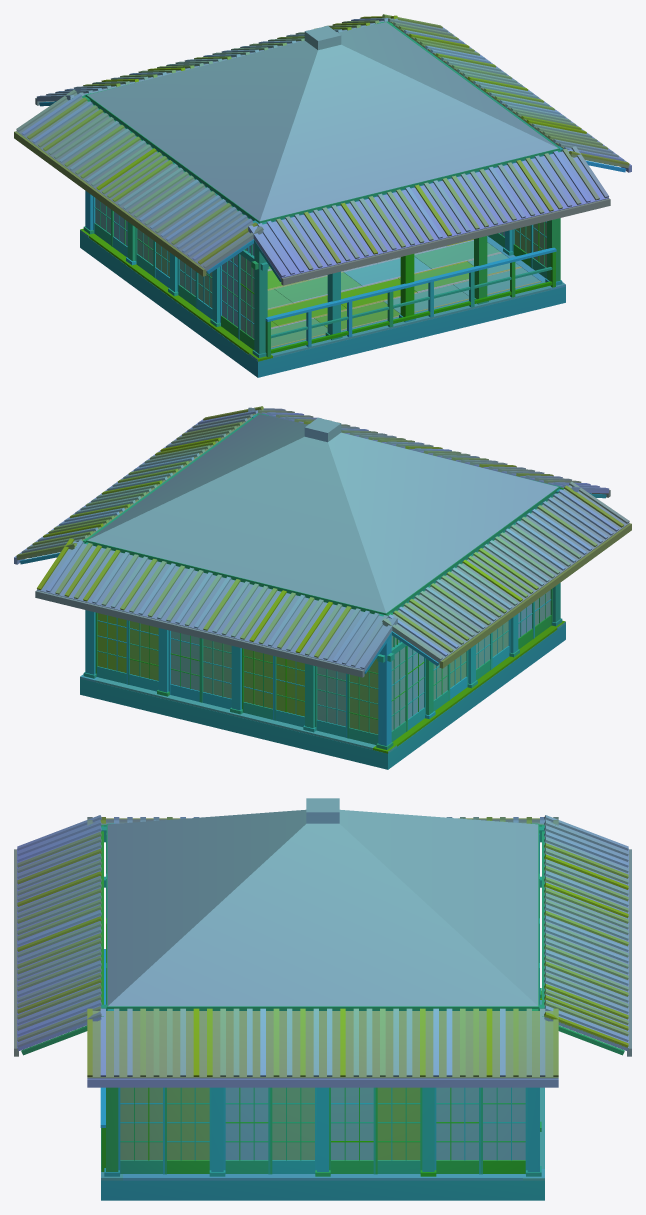
Rendered from B_room_a.glb.
3 renders of one model, top to bottom at view 1: azimuth 30°, elevation 25°; view 2: azimuth 150°, elevation 25°; view 3: azimuth 270°, elevation 25°, orthographic. The views are drawn at different scales.
Parts seen in each view (by area): view 1: B_room_a; view 2: B_room_a; view 3: B_room_a.
Part boxes in pixels (x1,y1,x2,y2): B_room_a: (14, 14, 631, 377); B_room_a: (14, 406, 631, 769); B_room_a: (14, 798, 631, 1200).
Size of the model in its own units: 11.14 by 6 by 11.14.
